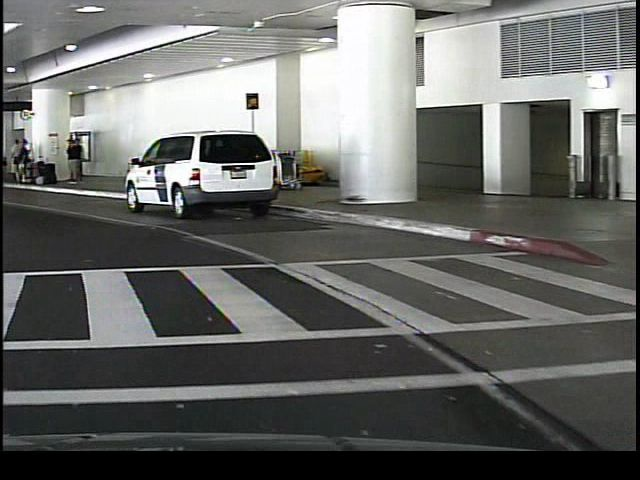person: (7, 132, 27, 184)
